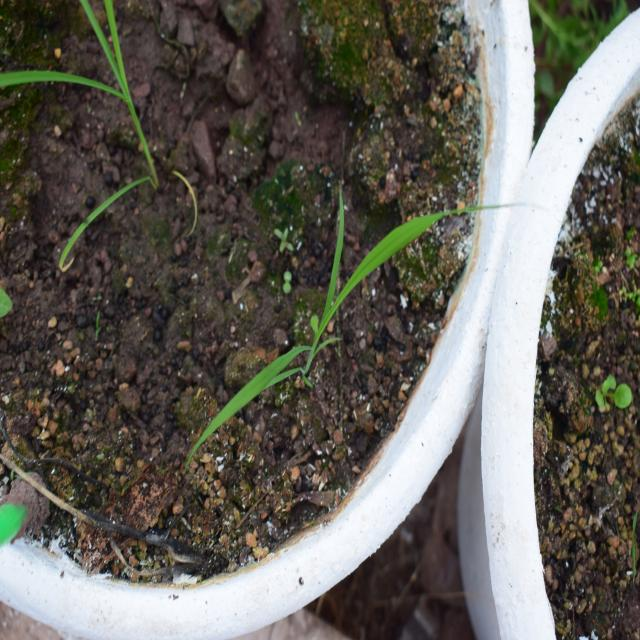barnyard_grass: (174, 175, 496, 456)
